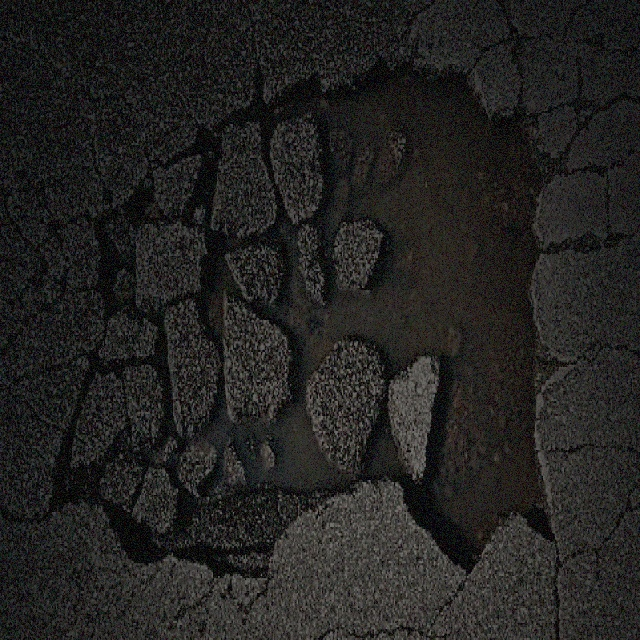pothole: (37, 49, 560, 587)
